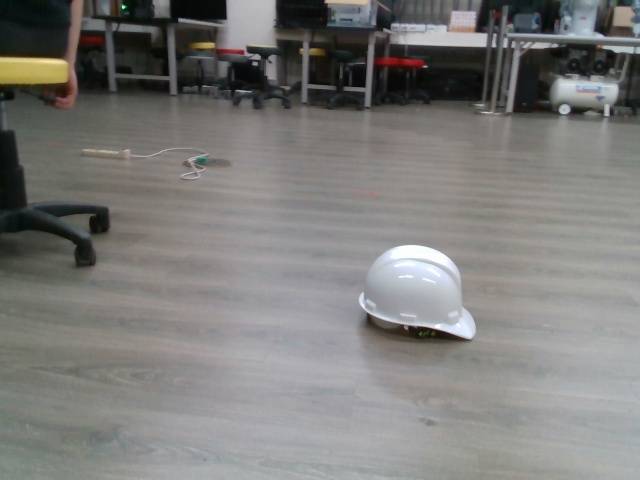helmet: (359, 242, 476, 344)
